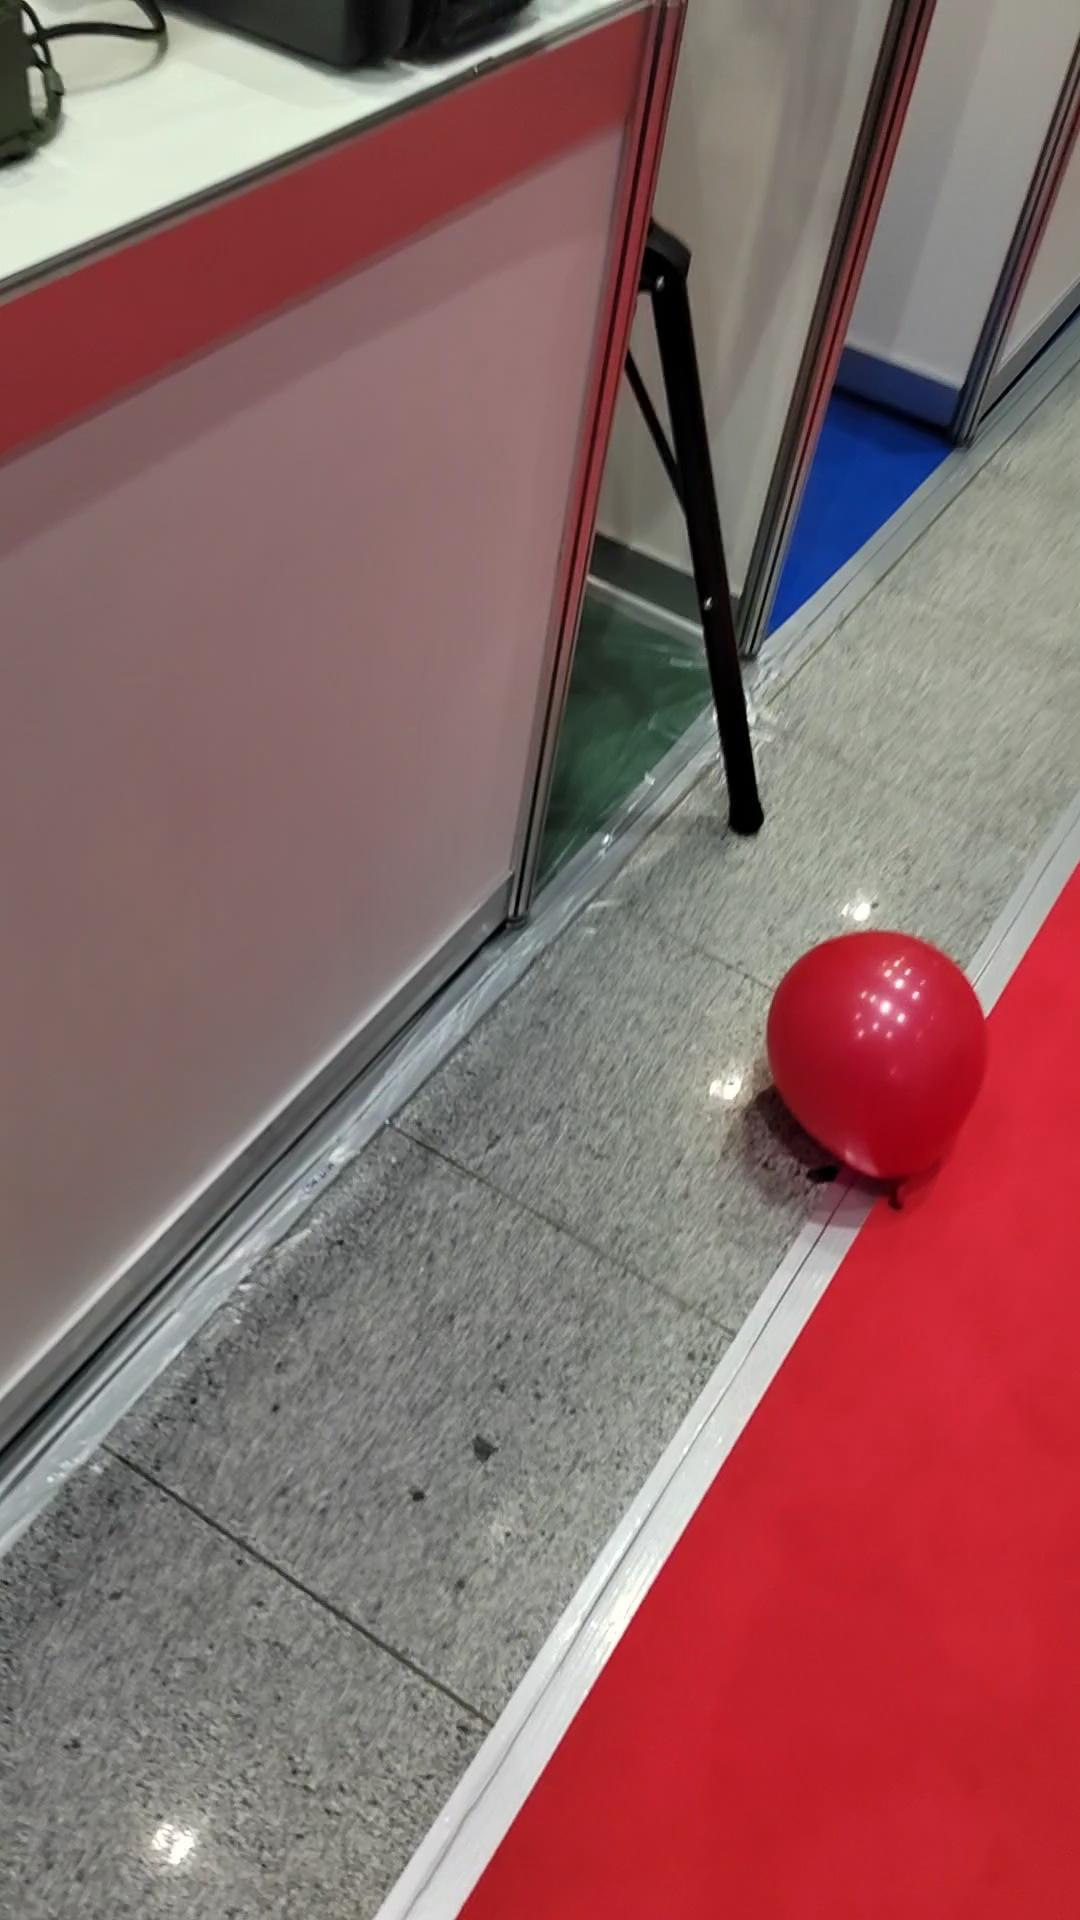red: (753, 920, 993, 1179)
